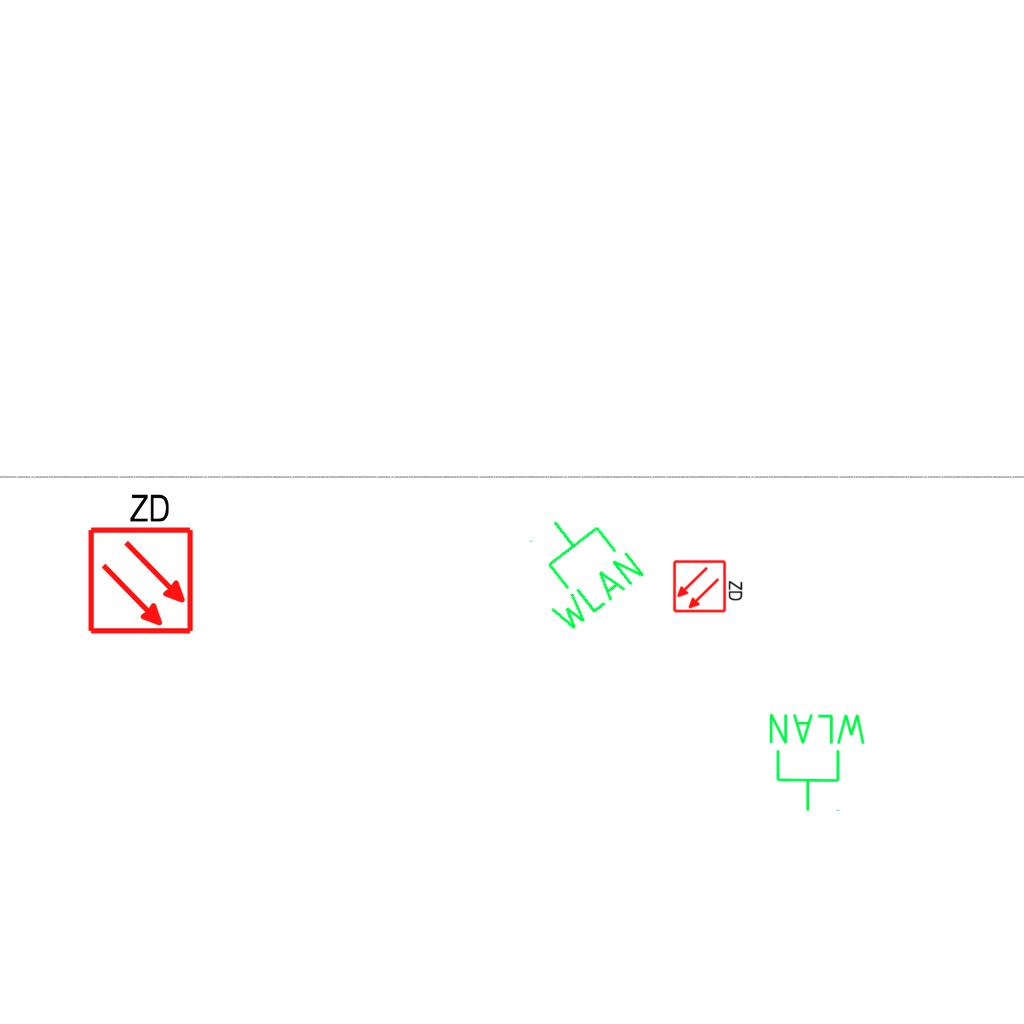WLAN: (503, 493, 651, 640), (765, 710, 870, 814)
ZD_Melder_in_Zwischendecke_mit_Revisionsoeffnung_mind_40_x_40_cm: (82, 487, 196, 636), (672, 557, 746, 614)
